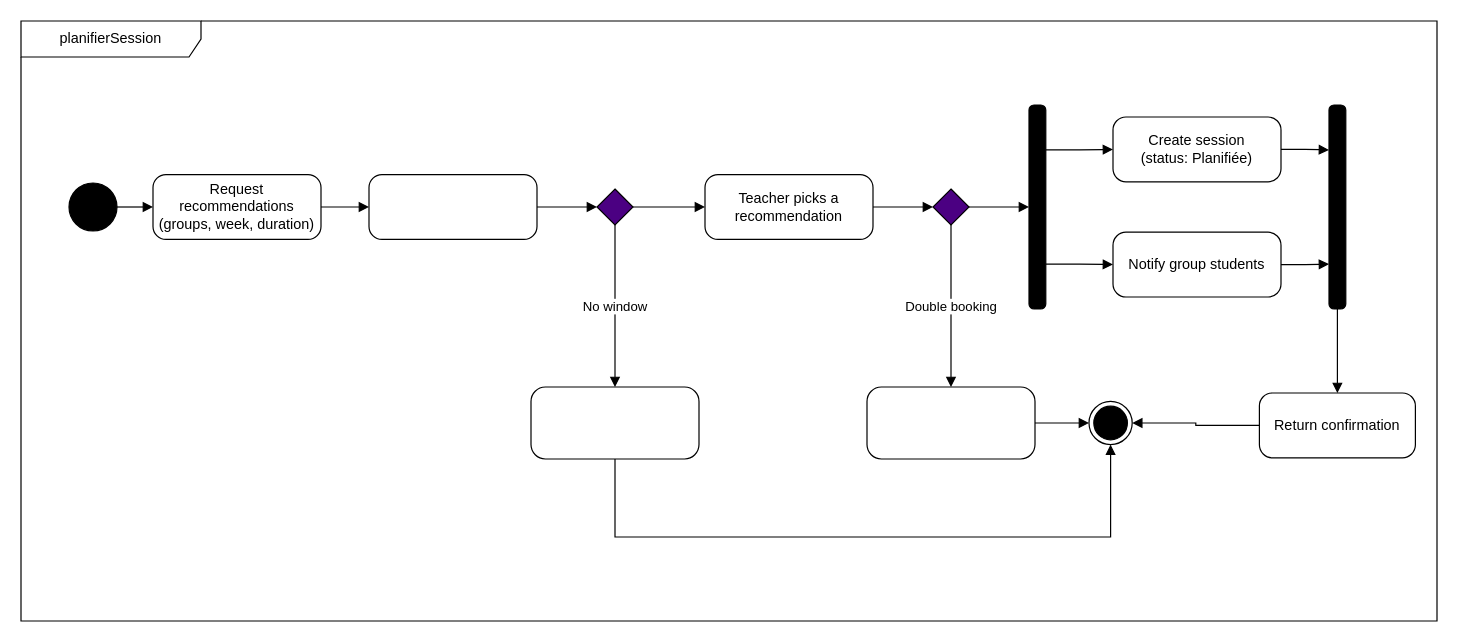
Image size: 1458x642. Some labels were removed from this diagram. The box of each missing label's shape, as (x1, y1, x2, y2) in pixels:
Engine ranks candidate windows: (368, 173, 537, 239)
Reject: double booking: (866, 386, 1035, 459)
Show unserved groups and reasons: (530, 386, 699, 459)
